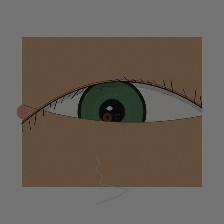foreign_body_visible: (97, 109, 118, 126)
